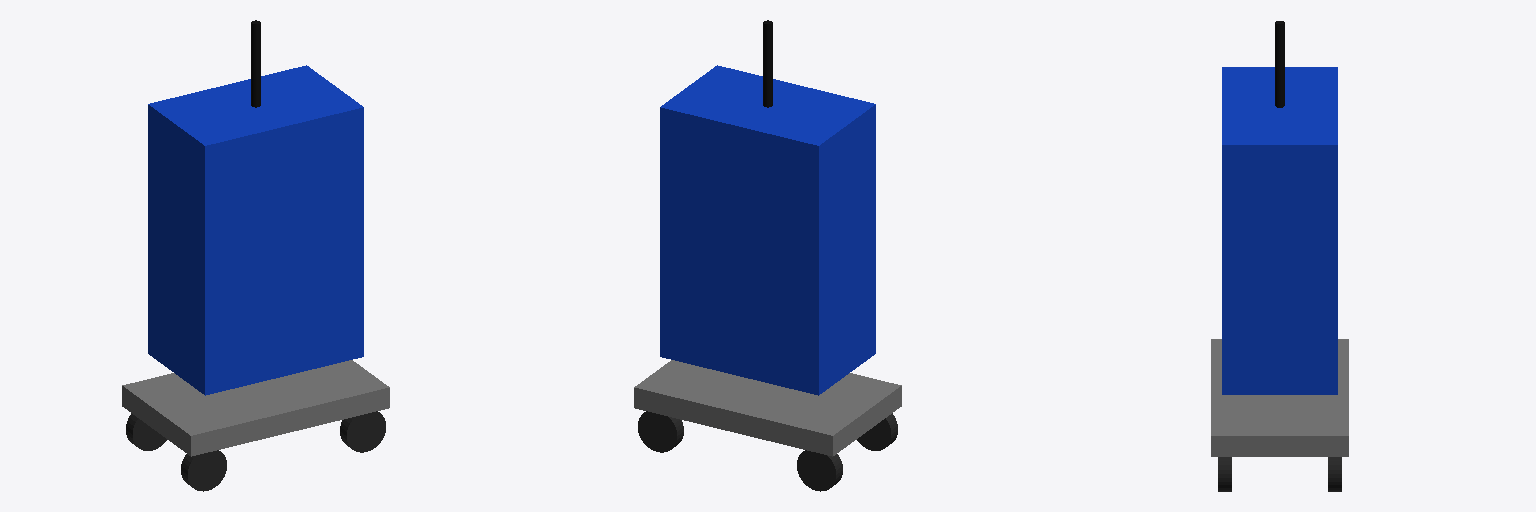
URDF robot description (suitecase_simple):
<?xml version="1.0"?>
<robot name="suitecase_simple" xmlns:xacro="http://ros.org/wiki/xacro">

  <!-- Base (bottom plane) -->
  <link name="base_plane">
    <inertial>
      <origin xyz="0 0 0" rpy="0 0 0"/>
      <mass value="2.0"/>
      <inertia ixx="0.01" ixy="0" ixz="0" iyy="0.02" iyz="0" izz="0.02"/>
    </inertial>
    <visual>
      <origin xyz="0 0 0" rpy="0 0 0"/>
      <geometry>
        <box size="0.50 0.30 0.05"/>
      </geometry>
      <material name="gray"><color rgba="0.5 0.5 0.5 1.0"/></material>
    </visual>
    <collision>
      <origin xyz="0 0 0" rpy="0 0 0"/>
      <geometry>
        <box size="0.50 0.30 0.05"/>
      </geometry>
    </collision>
  </link>

  <!-- Suitcase body (balances relative to base_plane) -->
  <link name="body">
    <inertial>
      <origin xyz="0 0 0" rpy="0 0 0"/>
      <mass value="5.0"/>
      <inertia ixx="0.15" ixy="0" ixz="0" iyy="0.05" iyz="0" izz="0.15"/>
    </inertial>
    <visual>
      <origin xyz="0 0 0.35" rpy="0 0 0"/>
      <geometry>
        <box size="0.40 0.25 0.60"/>
      </geometry>
      <material name="blue"><color rgba="0.1 0.3 0.8 1.0"/></material>
    </visual>
    <collision>
      <origin xyz="0 0 0.35" rpy="0 0 0"/>
      <geometry>
        <box size="0.40 0.25 0.60"/>
      </geometry>
    </collision>
  </link>

  <!-- Balance hinge joint (policy action target). Pitch about Y-axis. -->
  <joint name="balance_joint" type="revolute">
    <parent link="base_plane"/>
    <child link="body"/>
    <origin xyz="0 0 0.05" rpy="0 0 0"/>
    <axis xyz="0 1 0"/>
    <limit lower="-1.57" upper="1.57" effort="100" velocity="5"/>
    <dynamics damping="0.2" friction="0.0"/>
  </joint>

  <!-- Handle (for applying external wrenches) -->
  <link name="handle">
    <inertial>
      <origin xyz="0 0 0" rpy="0 0 0"/>
      <mass value="0.2"/>
      <inertia ixx="0.001" ixy="0" ixz="0" iyy="0.001" iyz="0" izz="0.001"/>
    </inertial>
    <visual>
      <origin xyz="0 0 0.70" rpy="0 0 0"/>
      <geometry>
        <cylinder radius="0.01" length="0.30"/>
      </geometry>
      <material name="black"><color rgba="0.1 0.1 0.1 1.0"/></material>
    </visual>
    <collision>
      <origin xyz="0 0 0.70" rpy="0 0 0"/>
      <geometry>
        <cylinder radius="0.01" length="0.30"/>
      </geometry>
    </collision>
  </link>

  <joint name="handle_fixed" type="fixed">
    <parent link="body"/>
    <child link="handle"/>
    <origin xyz="0 0 0" rpy="0 0 0"/>
  </joint>

  <!-- Wheels (free-rolling). Axes along Y so they roll in X. -->
  <link name="wheel_fl">
    <inertial>
      <origin xyz="0 0 0" rpy="0 0 0"/>
      <mass value="0.3"/>
      <inertia ixx="0.0005" ixy="0" ixz="0" iyy="0.0005" iyz="0" izz="0.0005"/>
    </inertial>
    <visual>
      <origin xyz="0 0 0" rpy="1.5708 0 0"/>
      <geometry>
        <cylinder radius="0.05" length="0.03"/>
      </geometry>
      <material name="dark"><color rgba="0.2 0.2 0.2 1.0"/></material>
    </visual>
    <collision>
      <origin xyz="0 0 0" rpy="1.5708 0 0"/>
      <geometry>
        <cylinder radius="0.05" length="0.03"/>
      </geometry>
    </collision>
  </link>

  <link name="wheel_fr">
    <inertial>
      <origin xyz="0 0 0" rpy="0 0 0"/>
      <mass value="0.3"/>
      <inertia ixx="0.0005" ixy="0" ixz="0" iyy="0.0005" iyz="0" izz="0.0005"/>
    </inertial>
    <visual>
      <origin xyz="0 0 0" rpy="1.5708 0 0"/>
      <geometry>
        <cylinder radius="0.05" length="0.03"/>
      </geometry>
      <material name="dark"/>
    </visual>
    <collision>
      <origin xyz="0 0 0" rpy="1.5708 0 0"/>
      <geometry>
        <cylinder radius="0.05" length="0.03"/>
      </geometry>
    </collision>
  </link>

  <link name="wheel_rl">
    <inertial>
      <origin xyz="0 0 0" rpy="0 0 0"/>
      <mass value="0.3"/>
      <inertia ixx="0.0005" ixy="0" ixz="0" iyy="0.0005" iyz="0" izz="0.0005"/>
    </inertial>
    <visual>
      <origin xyz="0 0 0" rpy="1.5708 0 0"/>
      <geometry>
        <cylinder radius="0.05" length="0.03"/>
      </geometry>
      <material name="dark"/>
    </visual>
    <collision>
      <origin xyz="0 0 0" rpy="1.5708 0 0"/>
      <geometry>
        <cylinder radius="0.05" length="0.03"/>
      </geometry>
    </collision>
  </link>

  <link name="wheel_rr">
    <inertial>
      <origin xyz="0 0 0" rpy="0 0 0"/>
      <mass value="0.3"/>
      <inertia ixx="0.0005" ixy="0" ixz="0" iyy="0.0005" iyz="0" izz="0.0005"/>
    </inertial>
    <visual>
      <origin xyz="0 0 0" rpy="1.5708 0 0"/>
      <geometry>
        <cylinder radius="0.05" length="0.03"/>
      </geometry>
      <material name="dark"/>
    </visual>
    <collision>
      <origin xyz="0 0 0" rpy="1.5708 0 0"/>
      <geometry>
        <cylinder radius="0.05" length="0.03"/>
      </geometry>
    </collision>
  </link>

  <!-- Wheel joints: continuous rotation around Y-axis -->
  <joint name="wheel_fl_joint" type="continuous">
    <parent link="base_plane"/>
    <child link="wheel_fl"/>
    <origin xyz="0.20 0.12 -0.075" rpy="0 0 0"/>
    <axis xyz="0 1 0"/>
    <dynamics damping="0.0" friction="0.0"/>
  </joint>

  <joint name="wheel_fr_joint" type="continuous">
    <parent link="base_plane"/>
    <child link="wheel_fr"/>
    <origin xyz="0.20 -0.12 -0.075" rpy="0 0 0"/>
    <axis xyz="0 1 0"/>
    <dynamics damping="0.0" friction="0.0"/>
  </joint>

  <joint name="wheel_rl_joint" type="continuous">
    <parent link="base_plane"/>
    <child link="wheel_rl"/>
    <origin xyz="-0.20 0.12 -0.075" rpy="0 0 0"/>
    <axis xyz="0 1 0"/>
    <dynamics damping="0.0" friction="0.0"/>
  </joint>

  <joint name="wheel_rr_joint" type="continuous">
    <parent link="base_plane"/>
    <child link="wheel_rr"/>
    <origin xyz="-0.20 -0.12 -0.075" rpy="0 0 0"/>
    <axis xyz="0 1 0"/>
    <dynamics damping="0.0" friction="0.0"/>
  </joint>

</robot>

--- What the picture shows (computed from the rendered views, not written in the file) ---
The picture shows the robot from 3 angles, left to right: view 1: azimuth 30°, elevation 25°; view 2: azimuth 150°, elevation 25°; view 3: azimuth 270°, elevation 25°; orthographic projection.
Model suitecase_simple with 7 links and 6 joints (1 revolute, 4 continuous, 1 fixed), rooted at base_plane, posed every joint at zero.
Links seen in each view (by area): view 1: body, base_plane, wheel_rr, wheel_fr, wheel_rl, handle; view 2: body, base_plane, wheel_rl, wheel_fl, wheel_rr, handle; view 3: body, base_plane, handle.
Link boxes in pixels (left/top/right/bottom): body: left=148, top=65, right=363, bottom=395; base_plane: left=122, top=360, right=389, bottom=456; wheel_rr: left=181, top=450, right=226, bottom=491; wheel_fr: left=340, top=411, right=385, bottom=452; wheel_rl: left=126, top=413, right=166, bottom=450; handle: left=251, top=20, right=260, bottom=107; body: left=660, top=65, right=875, bottom=395; base_plane: left=634, top=360, right=901, bottom=456; wheel_rl: left=797, top=450, right=842, bottom=491; wheel_fl: left=638, top=411, right=683, bottom=452; wheel_rr: left=857, top=413, right=897, bottom=450; handle: left=763, top=20, right=772, bottom=107; body: left=1222, top=67, right=1337, bottom=394; base_plane: left=1211, top=339, right=1348, bottom=456; handle: left=1275, top=21, right=1284, bottom=107.
Size in the robot's own frame: 0.5 by 0.3 by 1.02 metres.
Geometry: primitives only (box / cylinder / sphere), no mesh files.